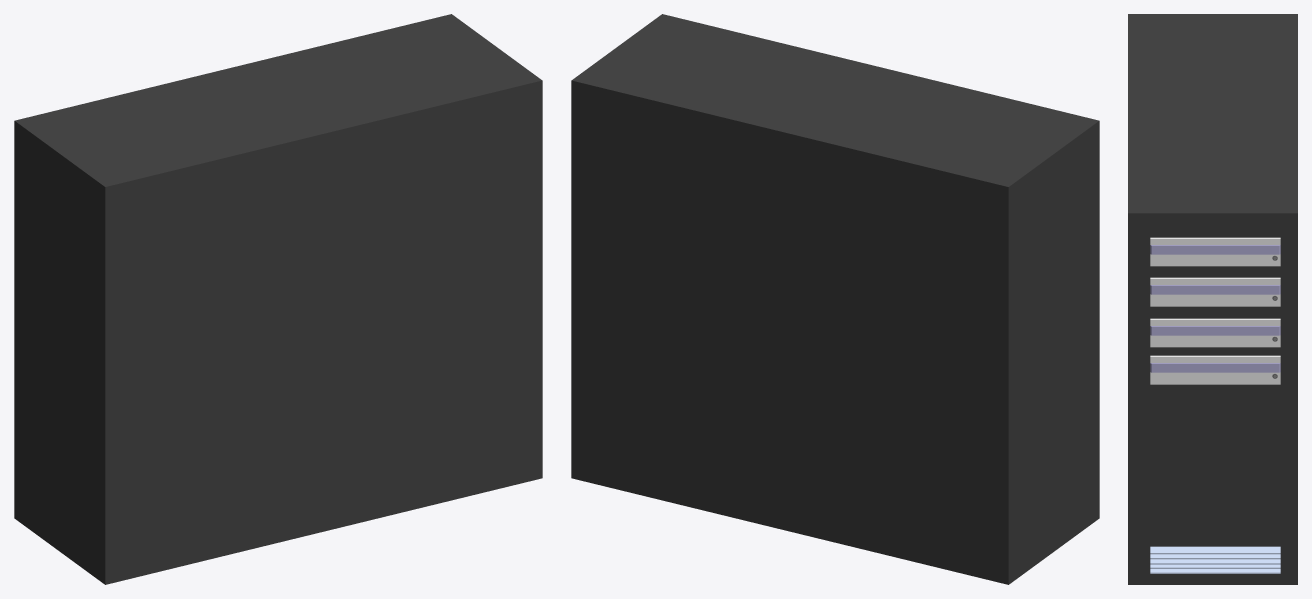
The model's file is computador.dae.
3 renders of one model, left to right at view 1: azimuth 30°, elevation 25°; view 2: azimuth 150°, elevation 25°; view 3: azimuth 270°, elevation 25°, orthographic. The views are drawn at different scales.
Parts seen in each view (by area): view 1: Cube.002; view 2: Cube.002; view 3: Cube.002.
Boxes of the visible parts, bbox=[...] form: Cube.002: bbox=[14, 14, 542, 584]; Cube.002: bbox=[571, 14, 1099, 584]; Cube.002: bbox=[1128, 14, 1297, 584].
Size of the model in its own units: 0.7848 by 0.2797 by 0.676.
